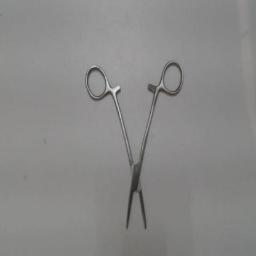Mayo Needle Holder: (83, 56, 187, 234)
